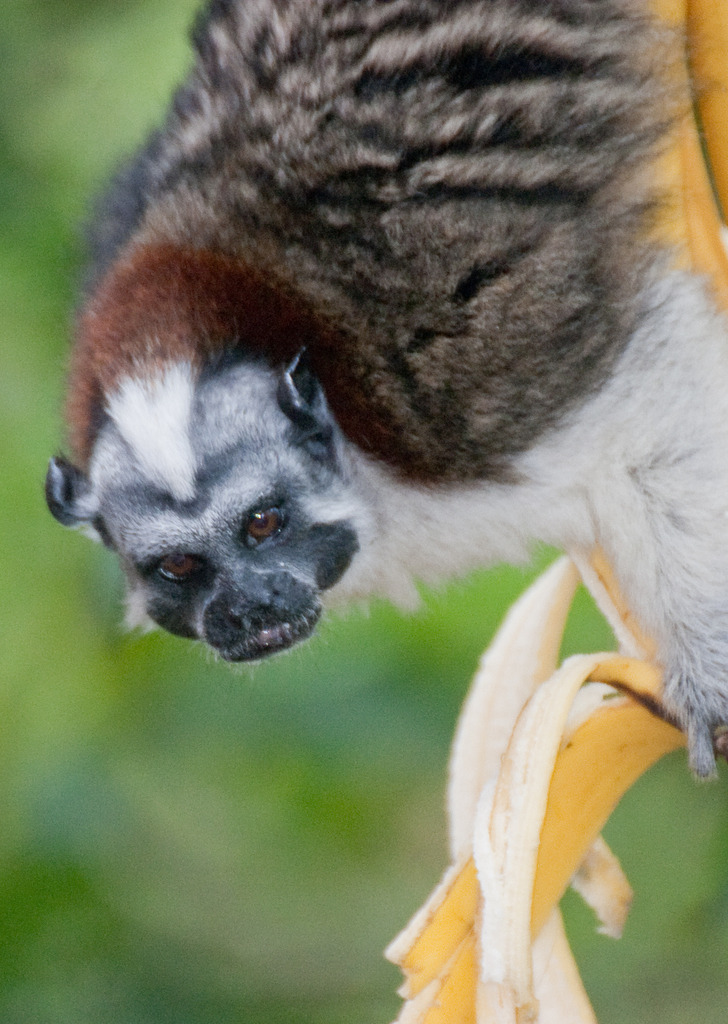Animal: (45, 0, 726, 786)
